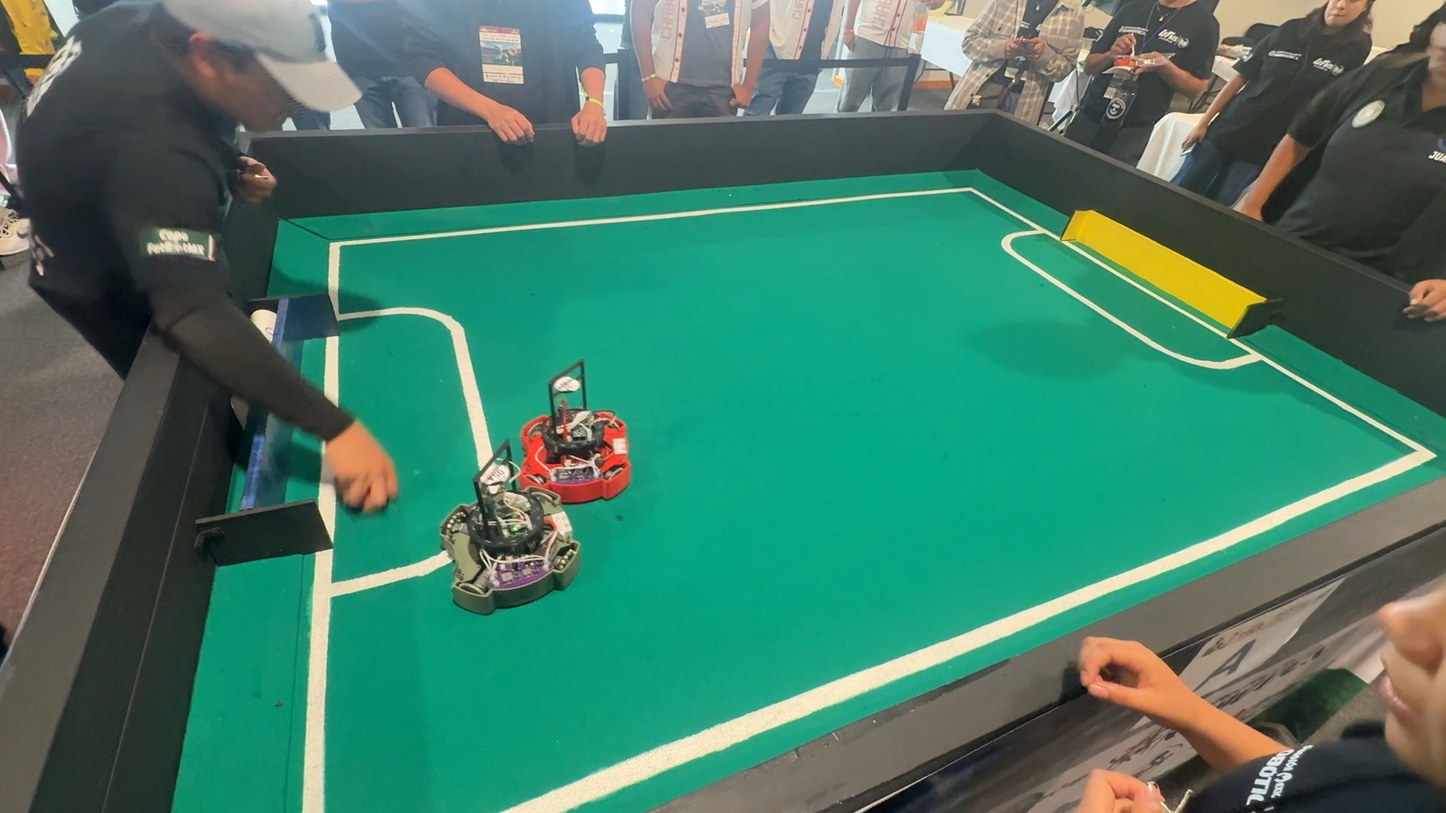Robot: (432, 442, 590, 628), (521, 361, 638, 515), (0, 163, 71, 288)
